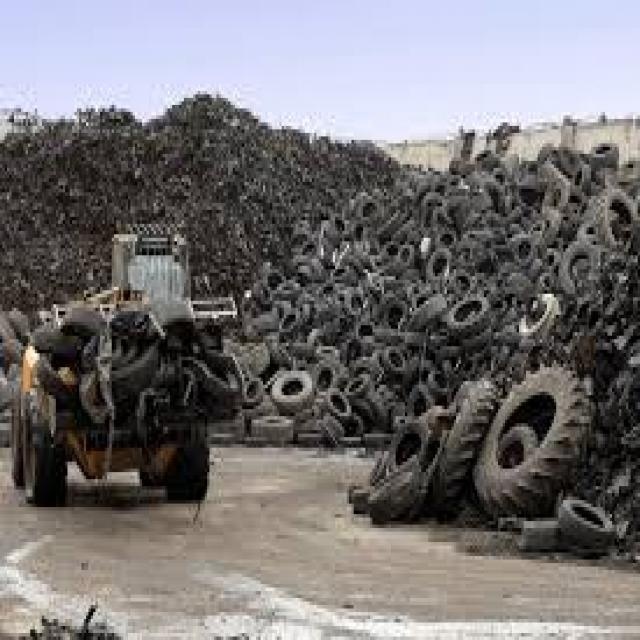Rubber -Non-Biodegradable but Recyclable-: (0, 94, 640, 564)
